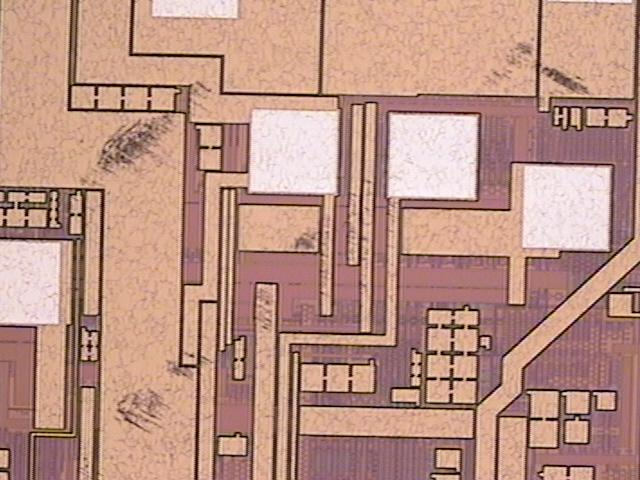SCRATCH: (68, 39, 594, 480)
